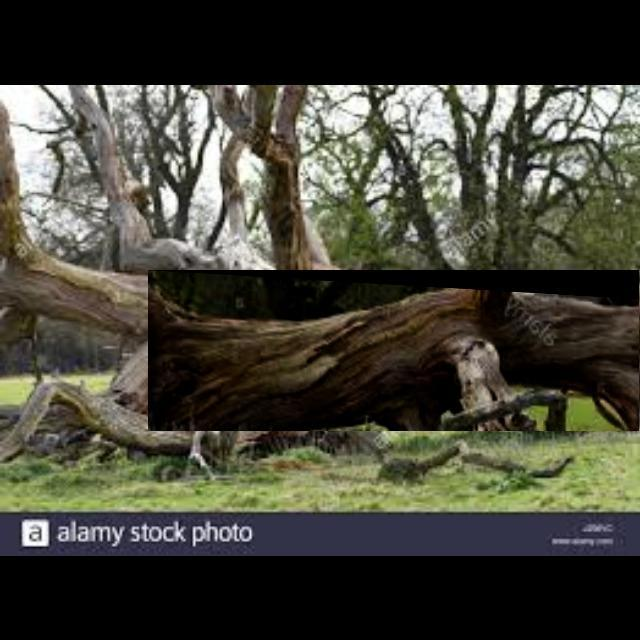fallen_tree: (148, 270, 640, 432)
